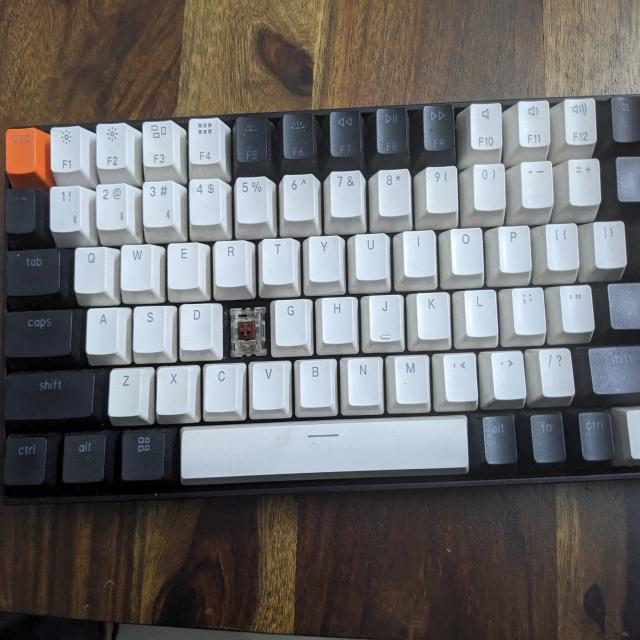C: (228, 305, 264, 357)
